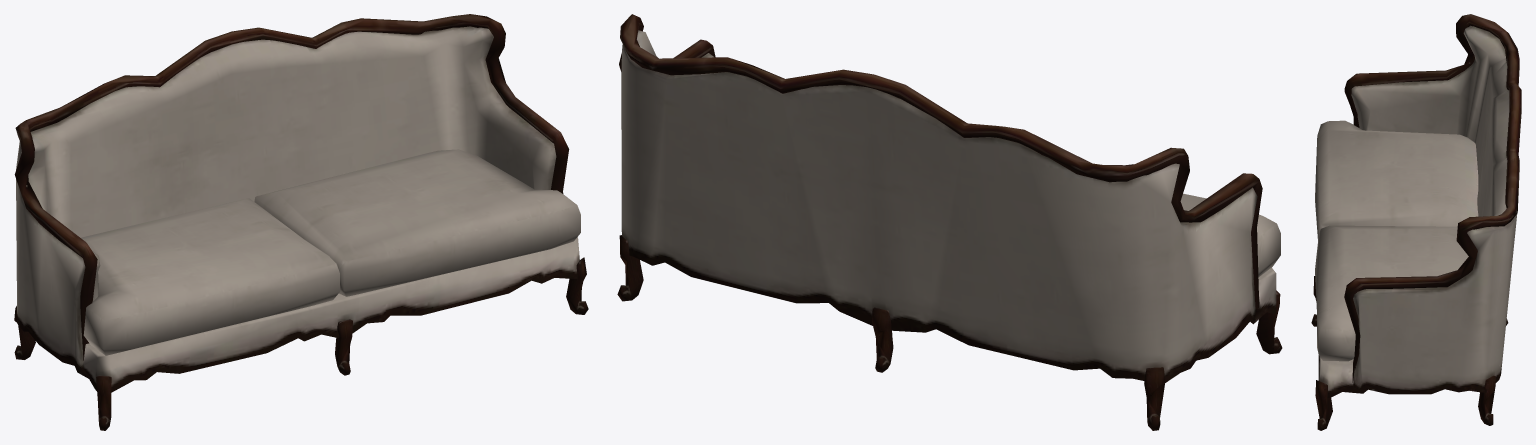
File: Sofa_01.glb
The picture shows the model from 3 angles, left to right: view 1: azimuth 30°, elevation 25°; view 2: azimuth 150°, elevation 25°; view 3: azimuth 270°, elevation 25°; orthographic projection. The views are drawn at different scales.
Parts seen in each view (by area): view 1: Sofa_01; view 2: Sofa_01; view 3: Sofa_01.
Boxes of the visible parts, bbox=[...] form: Sofa_01: bbox=[14, 14, 588, 430]; Sofa_01: bbox=[617, 14, 1282, 430]; Sofa_01: bbox=[1311, 14, 1521, 430].
Bounding box in the file's own units: 1.57 × 0.7954 × 0.6569.
Materials: 1 (1 with a texture image).
